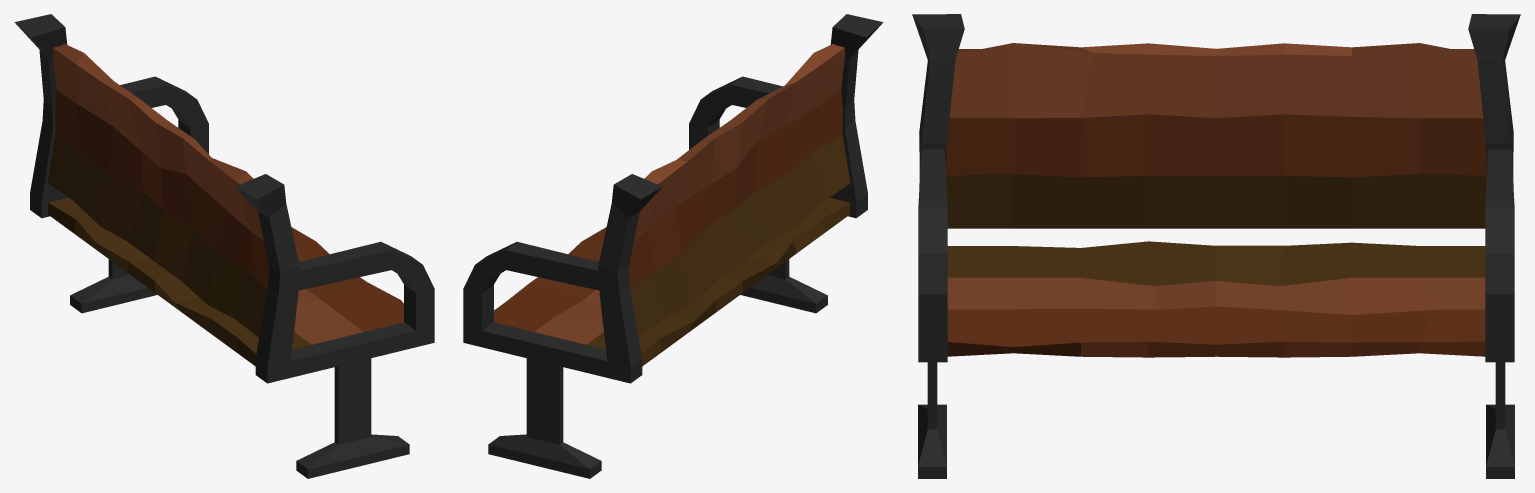
File: Bench.fbx
3 views of the same model, side by side, from view 1: azimuth 30°, elevation 25°; view 2: azimuth 150°, elevation 25°; view 3: azimuth 270°, elevation 25° (orthographic). The views are drawn at different scales.
Parts seen in each view (by area): view 1: Cube; view 2: Cube; view 3: Cube.
Boxes of the visible parts, x1=… form: Cube: x1=14, y1=14, x2=434, y2=478; Cube: x1=463, y1=14, x2=883, y2=478; Cube: x1=912, y1=14, x2=1520, y2=478.
Size of the model in its own units: 313 by 477 by 704.
